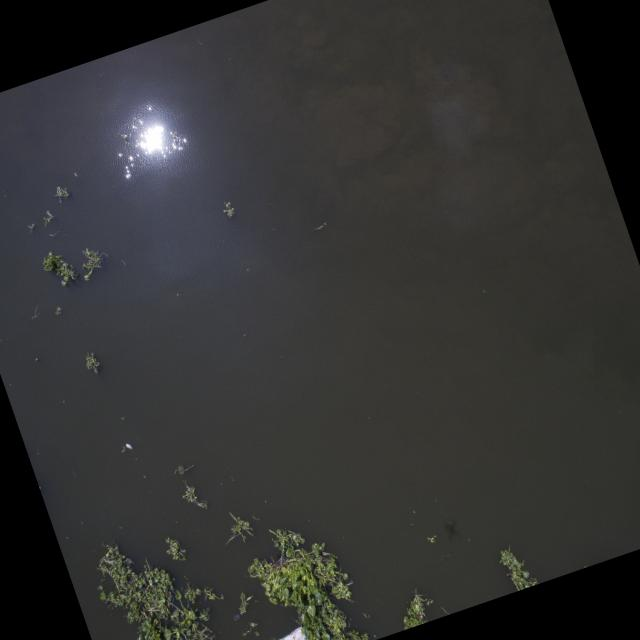Plastic: (270, 621, 312, 640), (124, 440, 134, 450)
